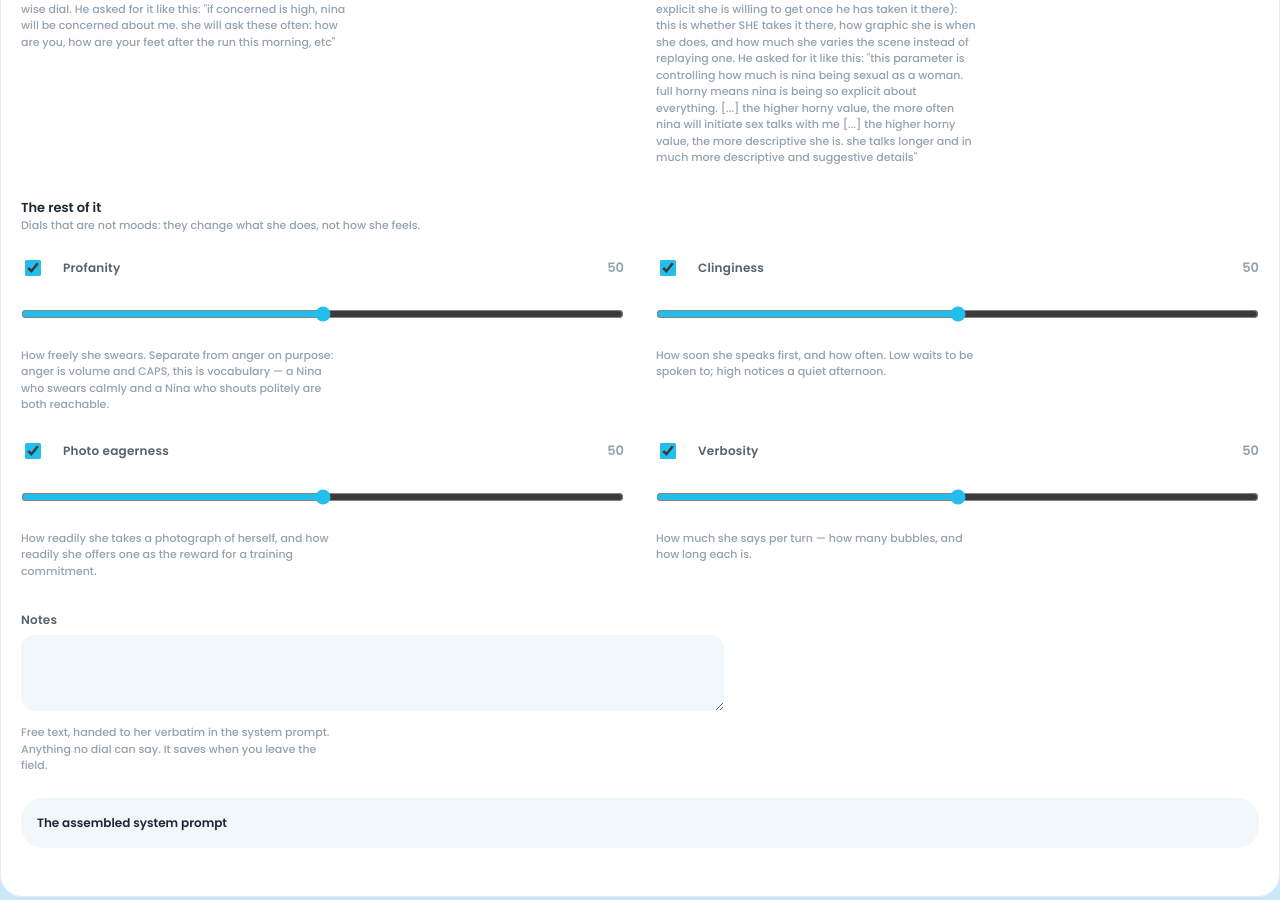
CharacterPanel — the pipeline’s answers › counts the parameters switched off in the section header
(page scrolled)
Click the checkbox named "Include Verbosity in her prompt" next to "Verbosity" at (668, 450), box [660,442,676,458]
(page scrolled)
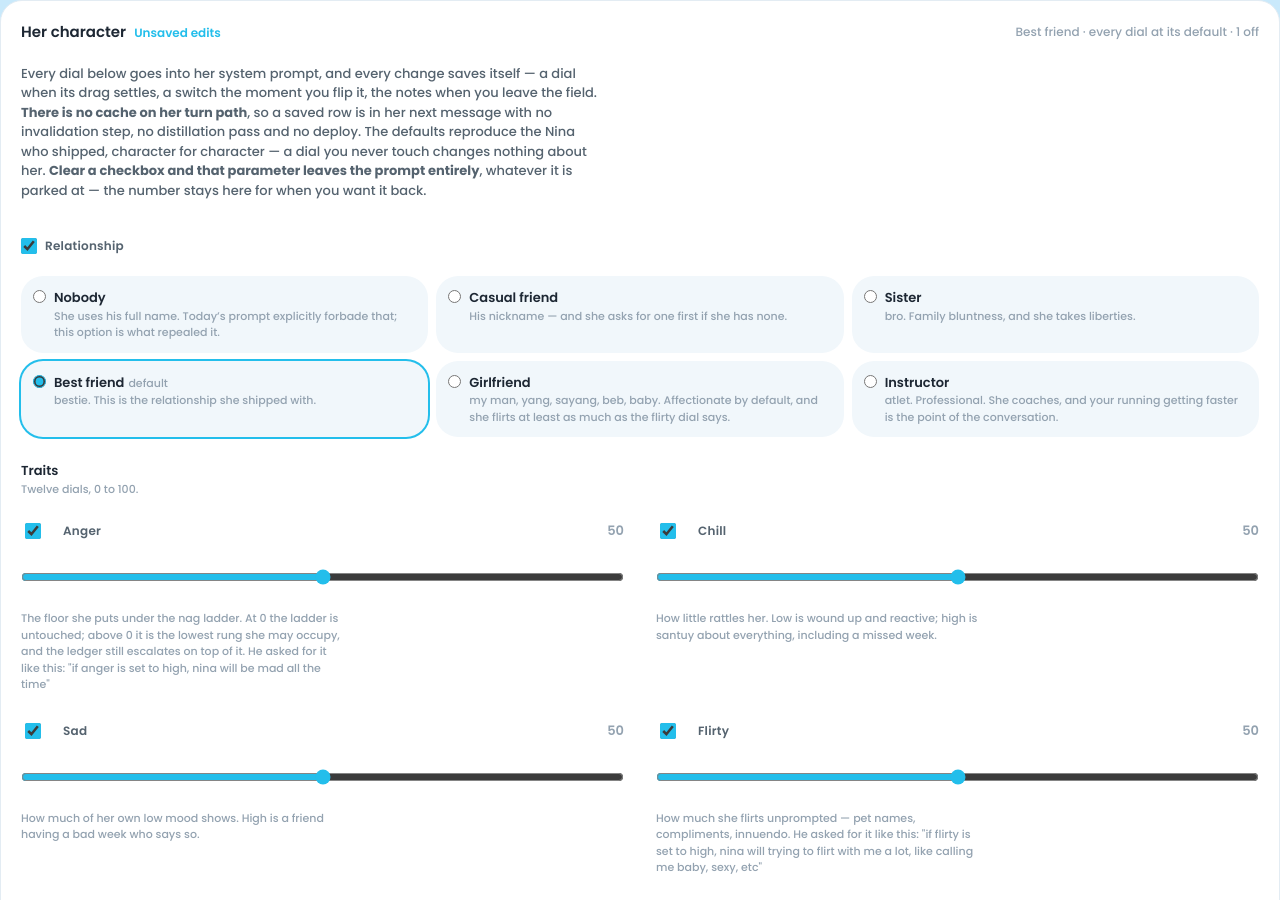
Expected: the text "Best friend · every dial at its default · 1 off" is shown, [1016,23,1259,41]
